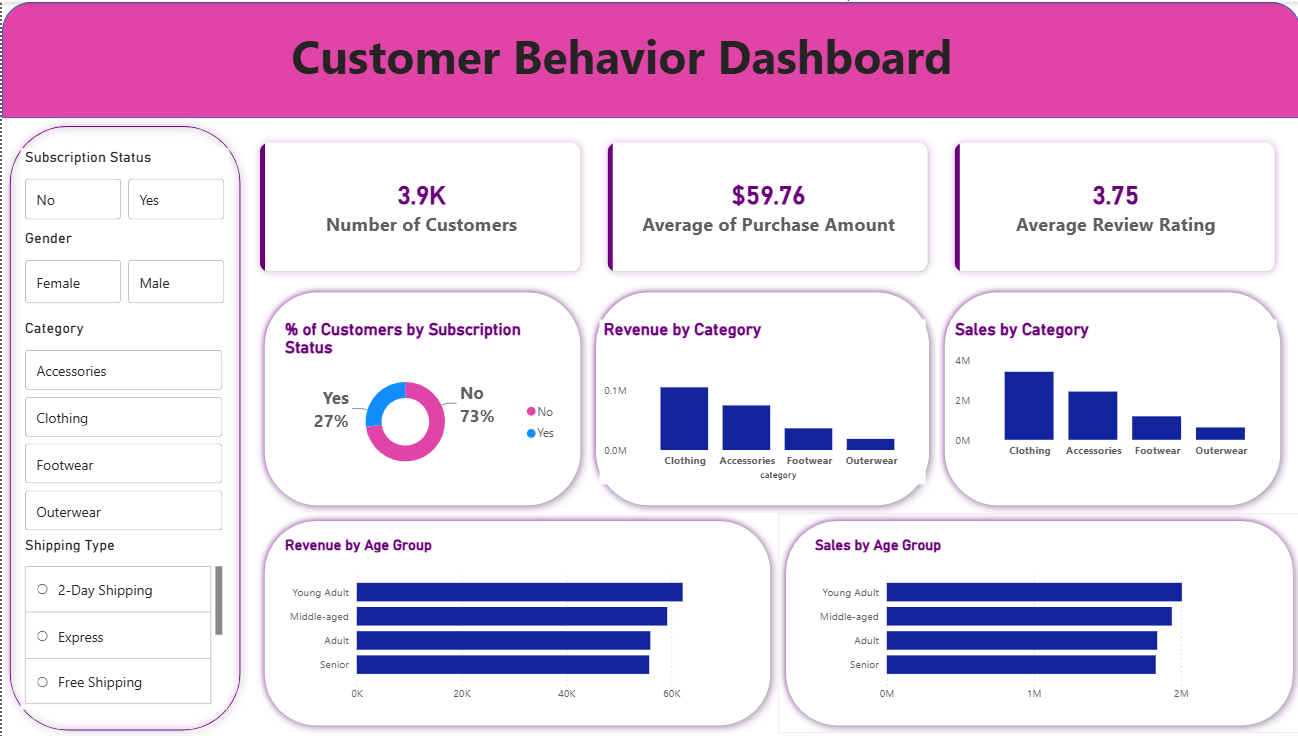

Layout of this report page (visuals, bound fields, positions):
{"tool":"powerbi","page":{"name":"Page 1","canvas":[1500,850],"ordinal":0},"visuals":[{"type":"cardVisual","fields":{"Data":["public customer.Number of Customers","public customer.Average of Purchase Amount","public customer.Average Review Rating"]},"box":[270,134.3,1230,206.4],"z":0},{"type":"shape","box":[0,0,1499.9,134.3],"z":1000},{"type":"textbox","box":[0,20.2,1432.1,148.7],"z":2000},{"type":"shape","box":[294.5,326.3,382.6,264.2],"z":3000},{"type":"donutChart","title":"% of Customers  by Subscription Status","fields":{"Category":["public customer.subscription_status"],"Y":["CountNonNull(public customer.customer_id)"]},"box":[321.9,366.7,329.1,181.9],"z":4000},{"type":"shape","box":[1079.8,326.3,405.7,264.2],"z":5000},{"type":"shape","box":[677.1,326.3,402.8,264.2],"z":6000},{"type":"clusteredColumnChart","title":"Sales by Category","fields":{"Category":["public customer.category"],"Y":["Sum(public customer.customer_id)"]},"box":[1095.7,366.7,376.8,168.9],"z":7000},{"type":"clusteredColumnChart","title":"Revenue by Category","fields":{"Category":["public customer.category"],"Y":["Sum(public customer.purchase_amount)"]},"box":[690.1,366.7,376.8,190.6],"z":8000},{"type":"shape","box":[0,134.3,284.4,716],"z":9000},{"type":"advancedSlicerVisual","fields":{"Values":["public customer.subscription_status"]},"box":[21.7,168.9,241.1,88.1],"z":10000},{"type":"advancedSlicerVisual","title":"Gender","fields":{"Values":["public customer.gender"]},"box":[21.7,262.7,241.1,90.9],"z":11000},{"type":"advancedSlicerVisual","fields":{"Values":["public customer.category"]},"box":[21.7,366.7,238.2,249.7],"z":12000},{"type":"advancedSlicerVisual","fields":{"Values":["public customer.shipping_type"]},"box":[21.7,616.4,238.2,200.7],"z":13000},{"type":"shape","box":[294.5,590.4,602,254.1],"z":15000},{"type":"clusteredBarChart","title":"Revenue by Age Group","fields":{"Category":["public customer.aged_group"],"Y":["Sum(public customer.purchase_amount)"]},"box":[321.9,616.4,526.9,200.7],"z":15001},{"type":"shape","box":[896.5,590.4,603.4,254.1],"z":15002},{"type":"clusteredBarChart","title":"Sales by Age Group","fields":{"Category":["public customer.aged_group"],"Y":["Sum(public customer.customer_id)"]},"box":[934,616.4,526.9,200.7],"z":15003}]}

Visuals, with their boxes in screenshot pixels (x1, y1, x2, y2), scaled from the page's 1500x850 canvas onto the 1298x736 screenshot:
cardVisual - public customer.Number of Customers x public customer.Average of Purchase Amount: detection(234, 116, 1297, 295)
shape: detection(0, 0, 1297, 116)
textbox: detection(0, 17, 1239, 146)
shape: detection(255, 283, 586, 511)
"% of Customers  by Subscription Status" donutChart: detection(279, 318, 563, 475)
shape: detection(934, 283, 1285, 511)
shape: detection(586, 283, 934, 511)
"Sales by Category" clusteredColumnChart: detection(948, 318, 1274, 464)
"Revenue by Category" clusteredColumnChart: detection(597, 318, 923, 483)
shape: detection(0, 116, 246, 735)
advancedSlicerVisual - public customer.subscription_status: detection(19, 146, 227, 223)
"Gender" advancedSlicerVisual: detection(19, 227, 227, 306)
advancedSlicerVisual - public customer.category: detection(19, 318, 225, 534)
advancedSlicerVisual - public customer.shipping_type: detection(19, 534, 225, 708)
shape: detection(255, 511, 776, 731)
"Revenue by Age Group" clusteredBarChart: detection(279, 534, 734, 708)
shape: detection(776, 511, 1297, 731)
"Sales by Age Group" clusteredBarChart: detection(808, 534, 1264, 708)
